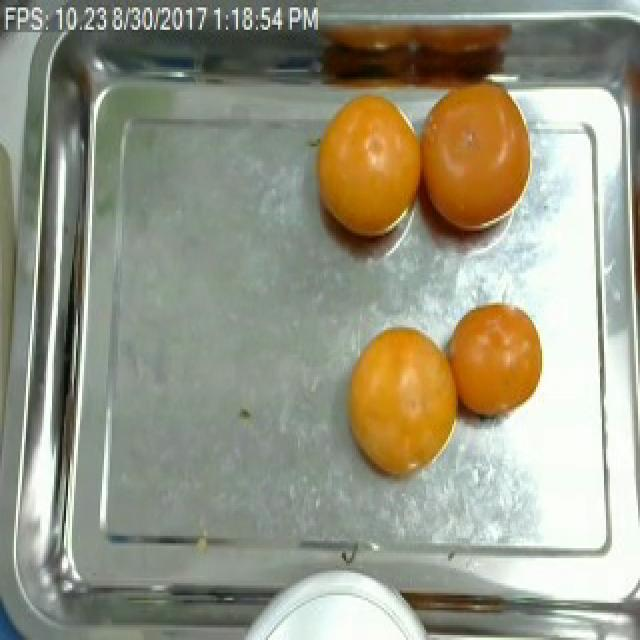Fruit: (336, 312, 474, 493), (406, 72, 542, 250), (302, 82, 434, 255), (440, 293, 552, 432)
